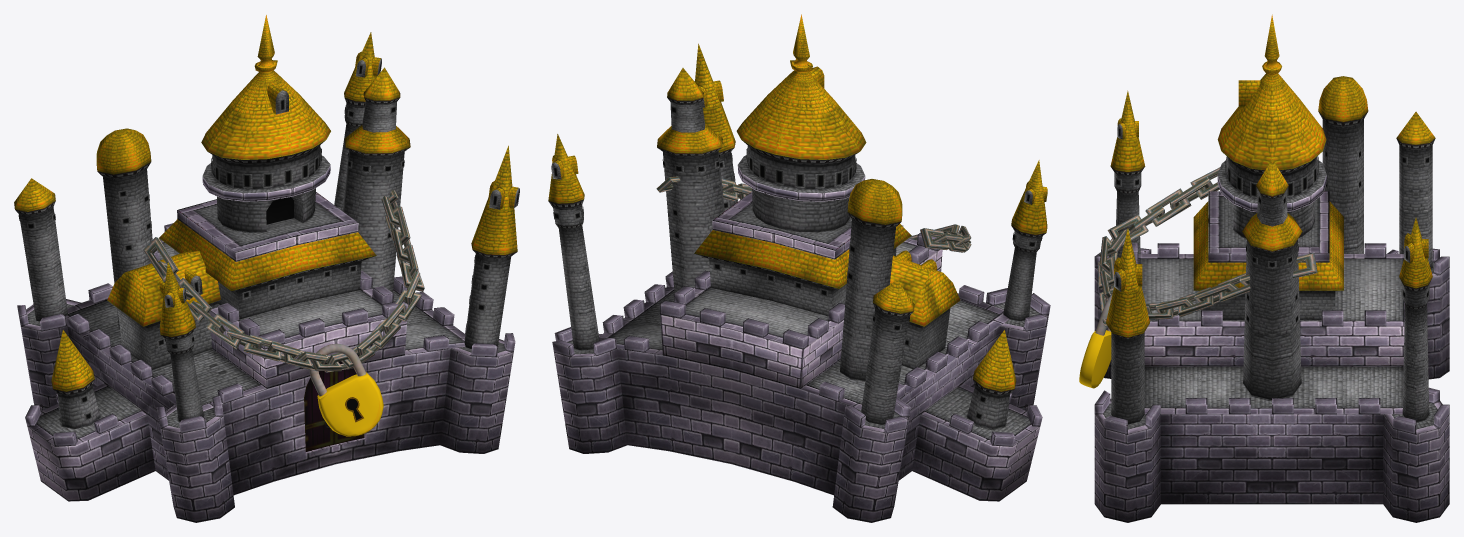
The model's file is Mansion.fbx.
3 views of the same model, side by side, from view 1: azimuth 30°, elevation 25°; view 2: azimuth 150°, elevation 25°; view 3: azimuth 270°, elevation 25° (orthographic). The views are drawn at different scales.
Parts seen in each view (by area): view 1: Mansion; view 2: Mansion; view 3: Mansion.
Part boxes in pixels (x1,y1,x2,y2): Mansion: (14,15,519,522); Mansion: (548,14,1050,522); Mansion: (1079,14,1449,522).
Bounding box in the file's own units: 87.9 × 87.14 × 66.36.
